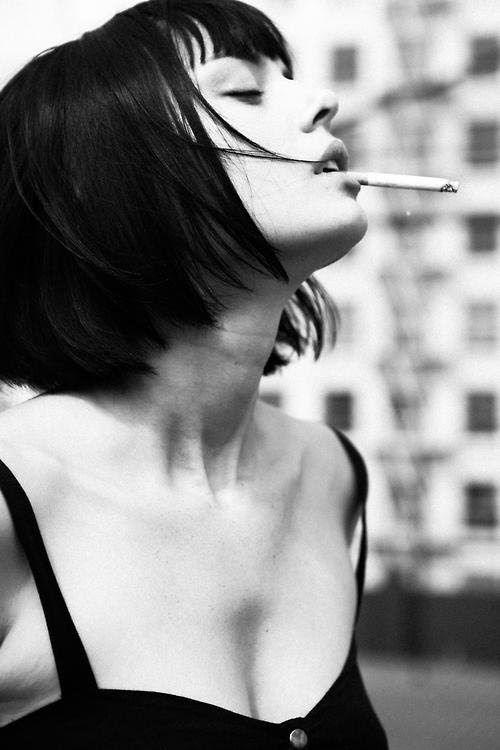cigarette: (342, 171, 460, 193)
